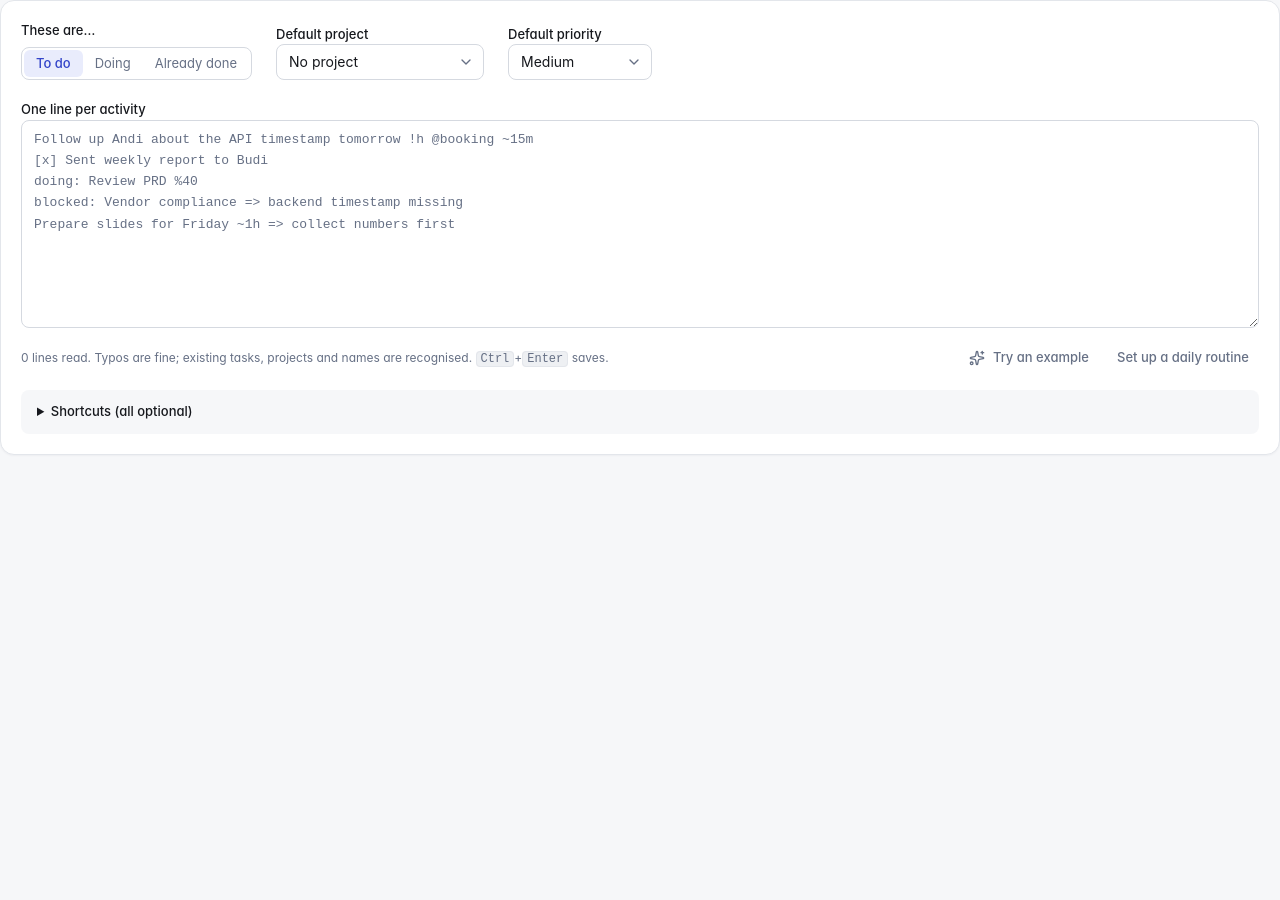
Brain Dump: smart matching › finds the project through typos, even when it is only mentioned in the words
Click the text box labelled "One line per activity".
click(640, 224)  # box [21,120,1259,328]
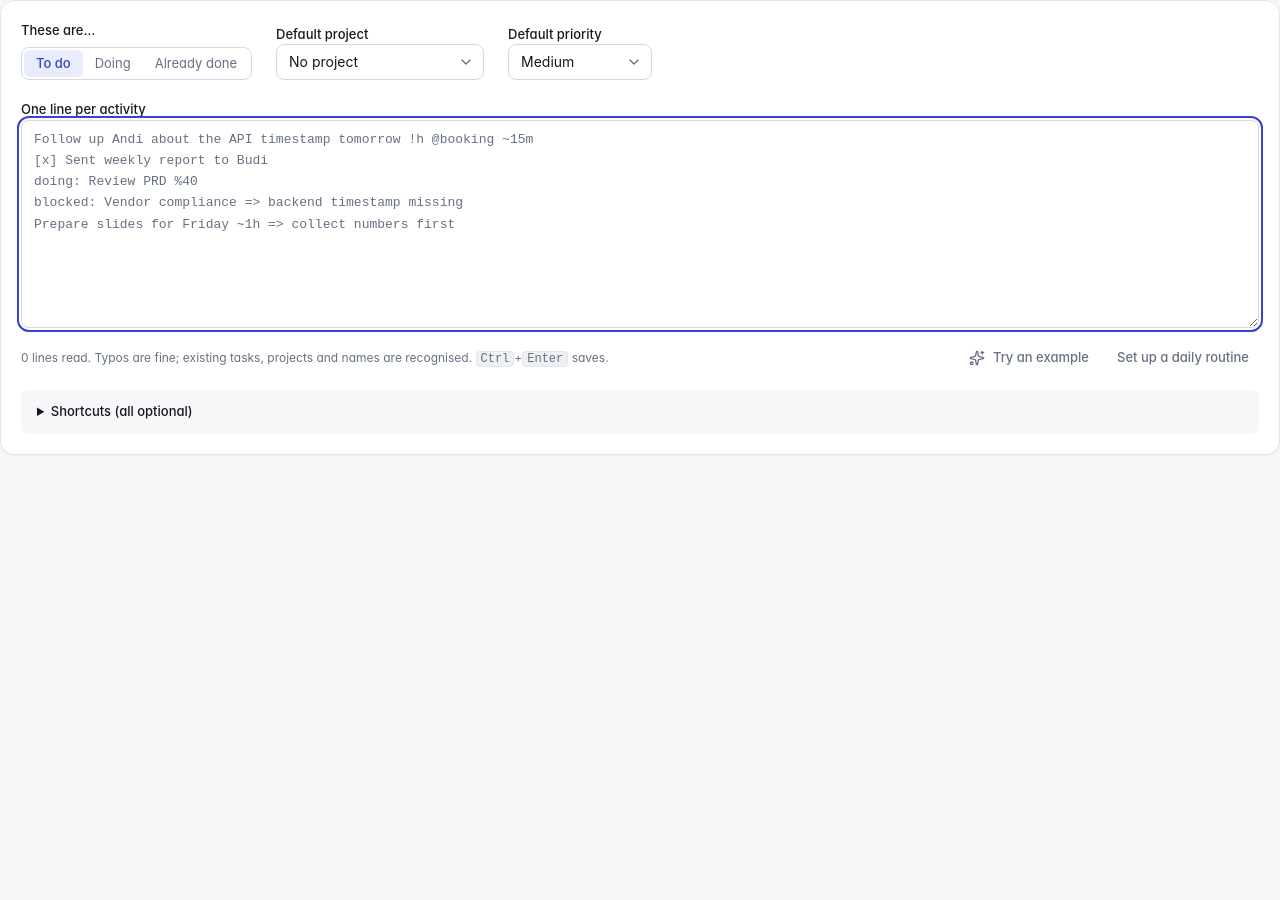
Type keys "Retst bokking cases tommorow"
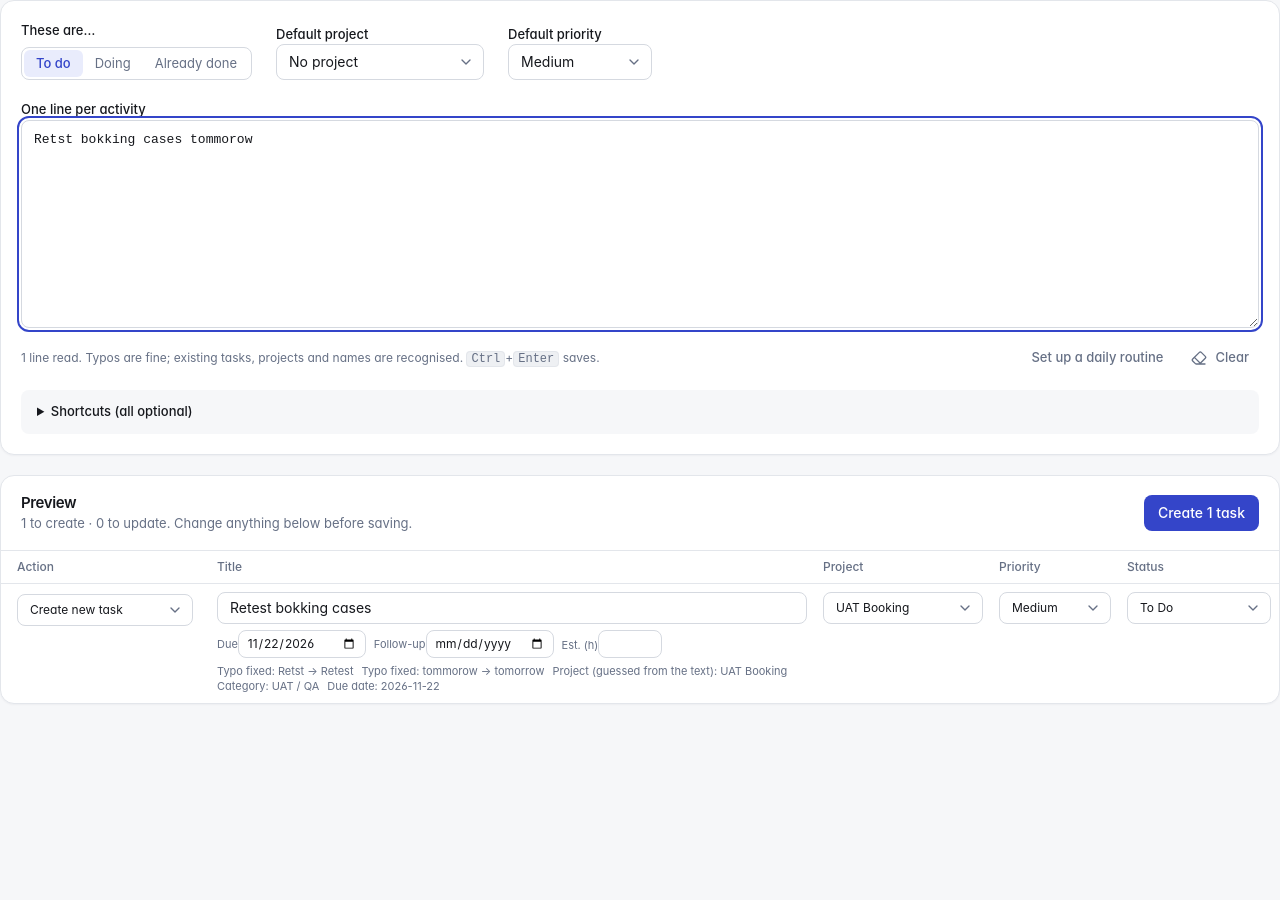
Result: the dropdown named "Project for line 1" shows "UAT Booking" at [823,592,983,624]
Result: the text "Project (guessed from the text): UAT Booking" is shown at [552,664,787,679]
Result: the text "Typo fixed: tommorow → tomorrow" is shown at [362,664,544,679]
